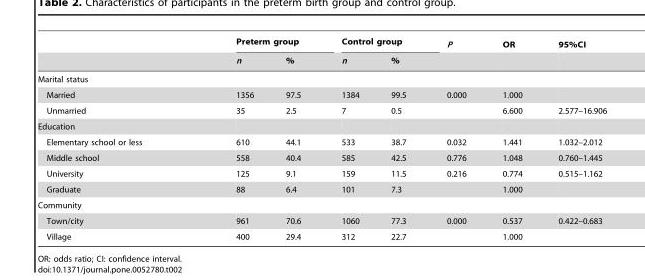table: (37, 36, 606, 240)
table column: (37, 36, 188, 240), (188, 36, 269, 240), (539, 36, 606, 240), (425, 36, 483, 240), (483, 36, 539, 240), (320, 36, 374, 240), (269, 36, 320, 240), (374, 36, 425, 240)
table column header: (37, 36, 606, 69)
table projected row header: (37, 69, 606, 86), (37, 118, 606, 134), (37, 197, 606, 212)
table row: (37, 52, 606, 69), (37, 69, 606, 86), (37, 36, 606, 52), (37, 86, 606, 102), (37, 102, 606, 118), (37, 118, 606, 134), (37, 149, 606, 165), (37, 165, 606, 181), (37, 181, 606, 197), (37, 212, 606, 228), (37, 134, 606, 149), (37, 197, 606, 212), (37, 228, 606, 240)
table spanning cell: (539, 36, 606, 69), (188, 36, 320, 52), (425, 36, 483, 69), (483, 36, 539, 69), (320, 36, 425, 52)
